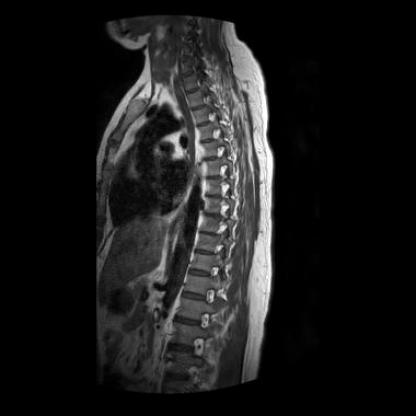Demyelinating Plaquesrotation: (201, 209, 222, 221), (197, 136, 218, 146)
Hemangiomatarotation: (189, 253, 215, 272), (195, 124, 214, 138)
